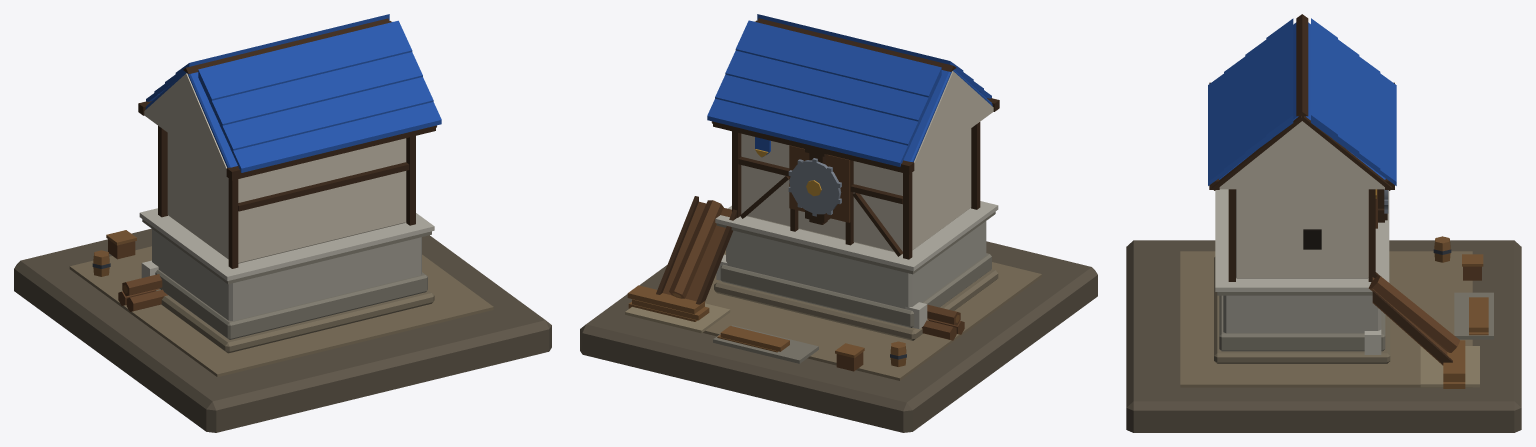
File: 伐木场_2星.glb
3 views of the same model, side by side, from view 1: azimuth 30°, elevation 25°; view 2: azimuth 150°, elevation 25°; view 3: azimuth 270°, elevation 25° (orthographic). The views are drawn at different scales.
Visible parts, largest first — view 1: 伐木场_2星; view 2: 伐木场_2星; view 3: 伐木场_2星.
Boxes of the visible parts, bbox=[...] form: 伐木场_2星: bbox=[14, 14, 551, 432]; 伐木场_2星: bbox=[580, 14, 1097, 432]; 伐木场_2星: bbox=[1126, 14, 1521, 432].
Bounding box in the file's own units: 1 × 0.791 × 1.
